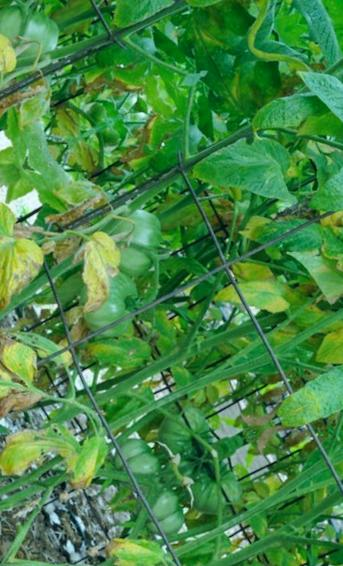Tomato Early blight leaf: (0, 395, 125, 544), (43, 228, 145, 328), (0, 314, 55, 453), (0, 219, 60, 342), (212, 264, 292, 338), (306, 318, 343, 374)
Tomato leaf: (192, 120, 308, 225), (293, 135, 343, 246), (305, 50, 343, 152)
